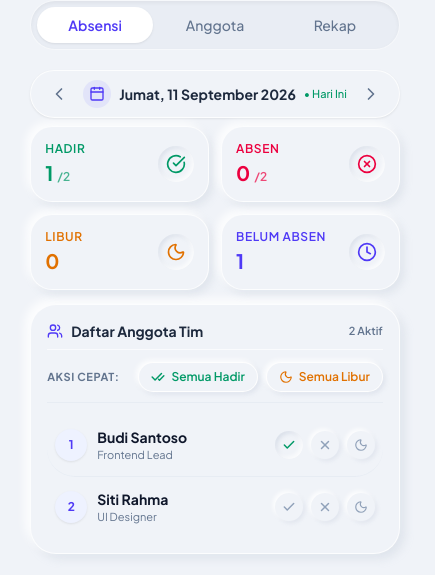
Test: AttendancePage Soft Neumorphism Layout & No Double Card › navigates to previous day and shows inline Hari Ini reset button without external notice row and keeps fixed height
Expected: the text "• Hari Ini" is shown, [304,86,347,102]
# Click previous date button
Click the button named "Tanggal sebelumnya" at {"x": 59, "y": 94}, box [43,78,75,110]
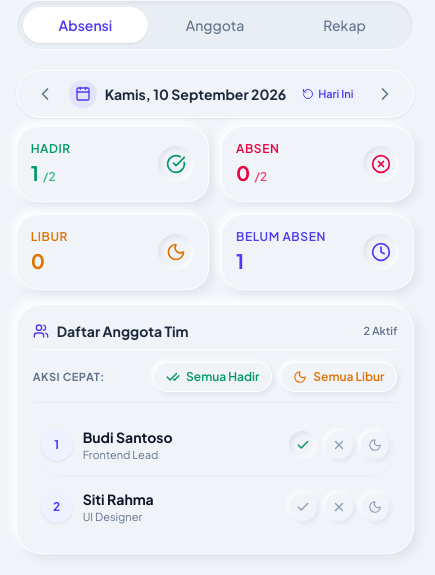
# Click reset to today
Click the button "Hari Ini" at {"x": 328, "y": 94}, box [294,84,361,104]
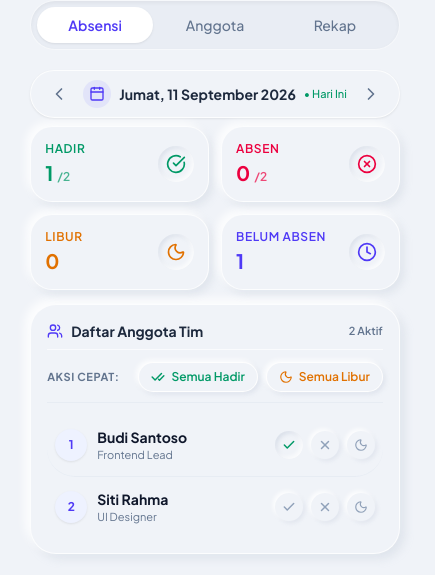
Now the text "• Hari Ini" is shown, box [304,86,347,102]
